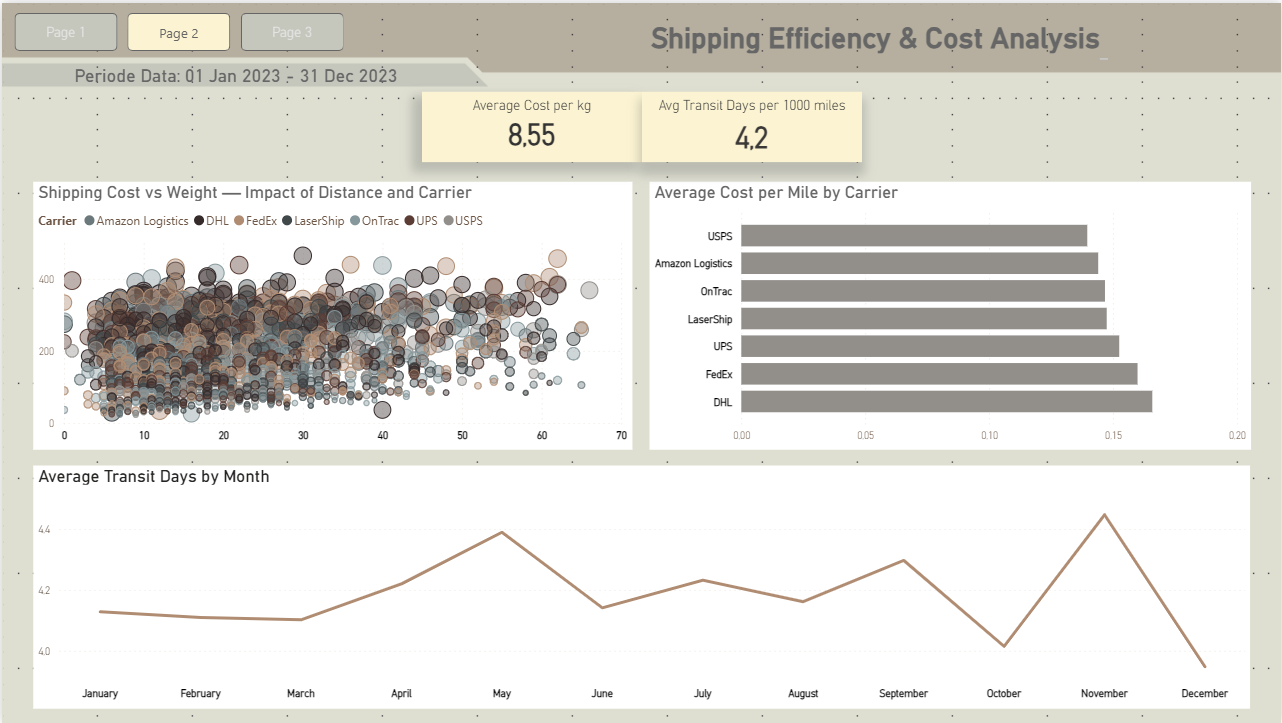

The dashboard page shown, as its layout file describes it:
{"tool":"powerbi","page":{"name":"Page 2","canvas":[1280,720],"ordinal":1},"visuals":[{"type":"scatterChart","title":"Shipping Cost vs Weight — Impact of Distance and Carrier","fields":{"X":["logistics_clean.Weight_kg"],"Y":["logistics_clean.Cost"],"Size":["Sum(logistics_clean.Distance_miles)"],"Series":["logistics_clean.Carrier"]},"box":[31.7,178.3,599.2,268.3],"z":0},{"type":"clusteredBarChart","title":"Average Cost per Mile by Carrier","fields":{"Category":["logistics_clean.Carrier"],"Y":["logistics_clean.Avg_Cost_per_Mile"]},"box":[647.5,178.3,601.7,268.3],"z":1000},{"type":"lineChart","fields":{"Y":["logistics_clean.Average Transit Days"],"Category":["logistics_clean.Shipment_Date.Variation.Date Hierarchy.Month"]},"box":[31.4,462.9,1217.1,242.9],"z":2000},{"type":"card","title":"Average Cost per kg","fields":{"Values":["logistics_clean.Avg_Cost_per_kg"]},"box":[419.5,88.8,220,70],"z":3000},{"type":"card","title":"Avg Transit Days per 1000 miles","fields":{"Values":["logistics_clean.Avg_Transit_per_1000miles"]},"box":[640,88.6,220,70],"z":4000},{"type":"textbox","title":"Shipping Efficiency & Cost Analysis","box":[635.7,17.1,474.3,44.3],"z":5000},{"type":"card","fields":{"Values":["logistics_clean.Data Periode"]},"box":[0,57.1,468.6,25.7],"z":6000},{"type":"pageNavigator","box":[12.5,9.7,331.1,39],"z":7000}]}

Visuals, with their boxes in screenshot pixels (x1, y1, x2, y2), scaled from the page's 1280x720 canvas onto the 1282x723 screenshot:
"Shipping Cost vs Weight — Impact of Distance and Carrier" scatterChart: left=32, top=179, right=632, bottom=448
"Average Cost per Mile by Carrier" clusteredBarChart: left=649, top=179, right=1251, bottom=448
lineChart - logistics_clean.Average Transit Days x logistics_clean.Shipment_Date.Variation.Date Hierarchy.Month: left=31, top=465, right=1250, bottom=709
"Average Cost per kg" card: left=420, top=89, right=640, bottom=159
"Avg Transit Days per 1000 miles" card: left=641, top=89, right=861, bottom=159
"Shipping Efficiency & Cost Analysis" textbox: left=637, top=17, right=1112, bottom=62
card - logistics_clean.Data Periode: left=0, top=57, right=469, bottom=83
pageNavigator: left=13, top=10, right=344, bottom=49
